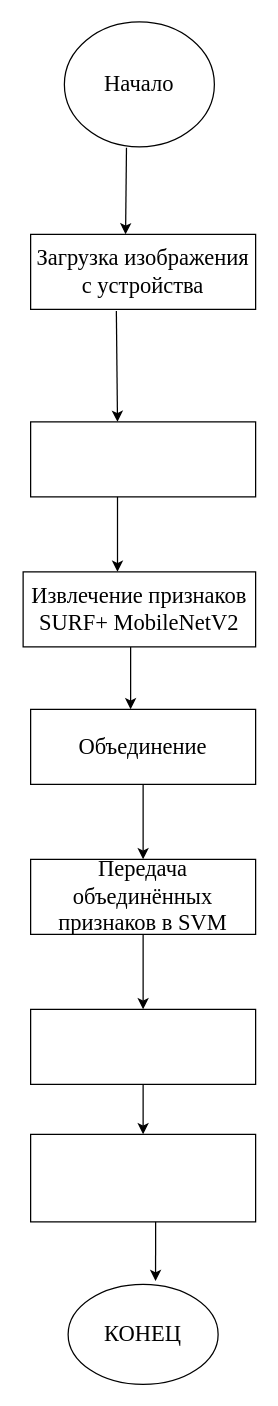
Image size: 278x1406. Some labels were removed from this diagram. Here are the shapes that lost their labels. From the top down, the centre of each, then its label:
At pixel 142 459: "Предобработка изображения".
At pixel 142 1046: "определение класса мебели".
At pixel 142 1177: "Вывод информации пользователю на мобильном устройстве".
